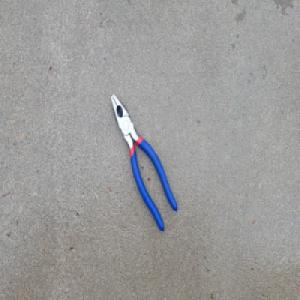Pliers: (110, 91, 178, 234)
